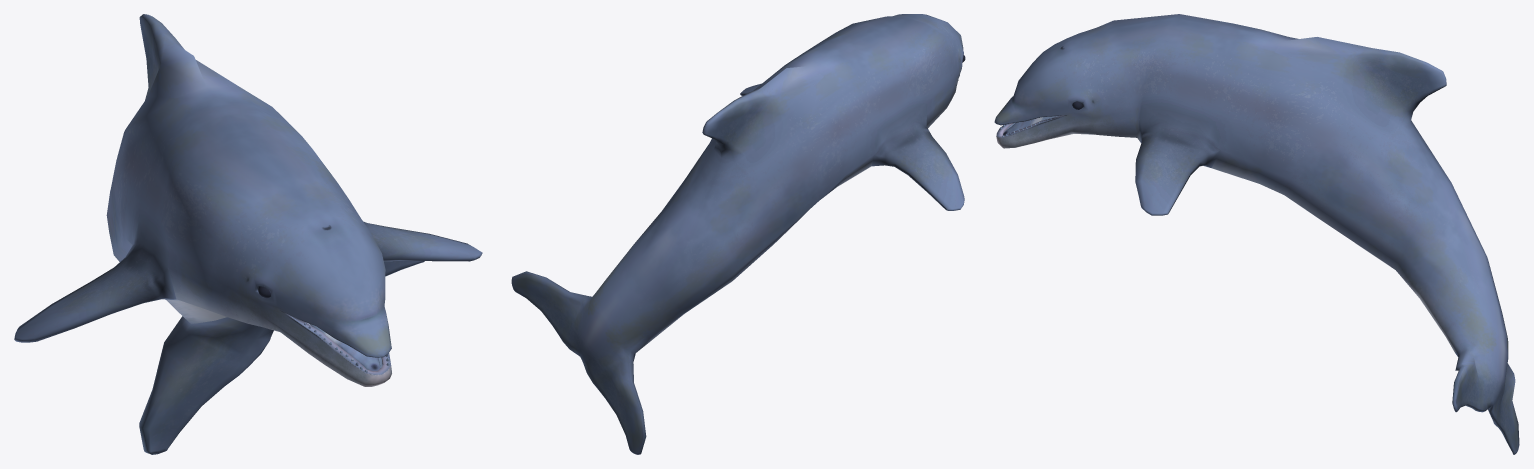
Rendered from delfin_aro.obj.
The picture shows the model from 3 angles, left to right: view 1: azimuth 30°, elevation 25°; view 2: azimuth 150°, elevation 25°; view 3: azimuth 270°, elevation 25°; orthographic projection. The views are drawn at different scales.
Visible parts, largest first — view 1: DolphinMouth_Cube_003; view 2: DolphinMouth_Cube_003; view 3: DolphinMouth_Cube_003.
Boxes of the visible parts, x1,y1,x2,y2 form: DolphinMouth_Cube_003: [14, 14, 482, 454]; DolphinMouth_Cube_003: [511, 14, 965, 454]; DolphinMouth_Cube_003: [994, 14, 1519, 454].
Bounding box in the file's own units: 67.18 × 60.3 × 75.1.
1 material, 1 textured.
